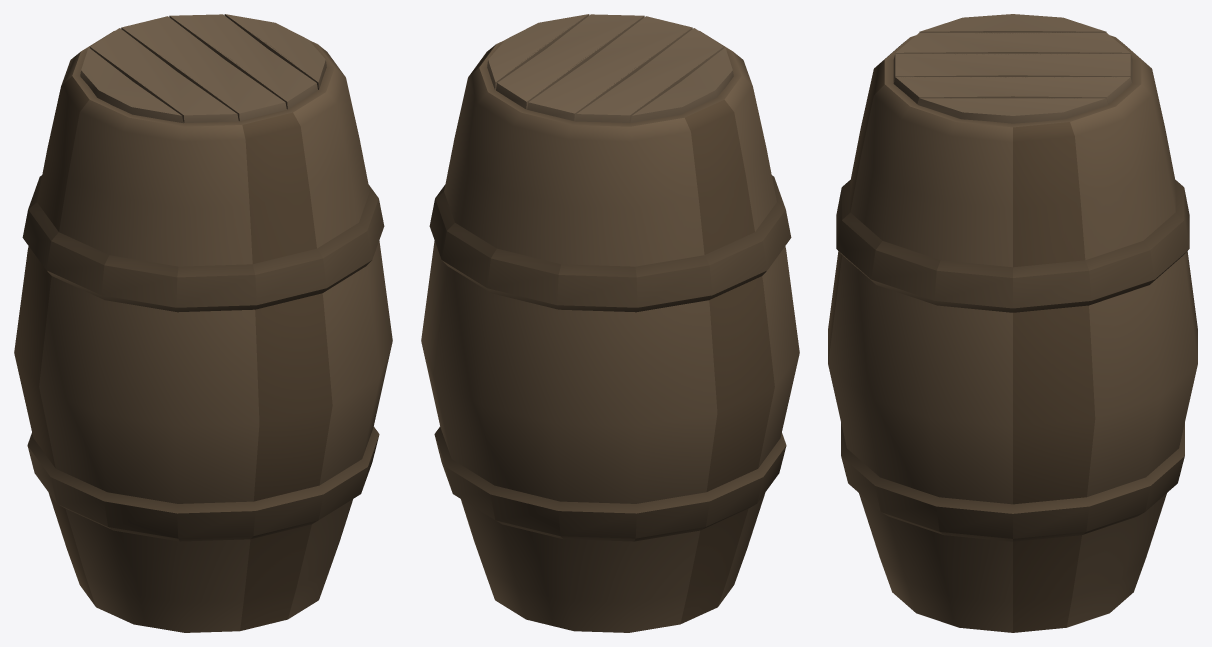
Rendered from p_barrel.glb.
3 views of the same model, side by side, from view 1: azimuth 30°, elevation 25°; view 2: azimuth 150°, elevation 25°; view 3: azimuth 270°, elevation 25° (orthographic).
Visible parts, largest first — view 1: p_barrel; view 2: p_barrel; view 3: p_barrel.
Part boxes in pixels (x1,y1,x2,y2): p_barrel: [14, 14, 392, 632]; p_barrel: [421, 14, 799, 632]; p_barrel: [828, 14, 1197, 632].
Bounding box in the file's own units: 0.6 × 0.9 × 0.585.
